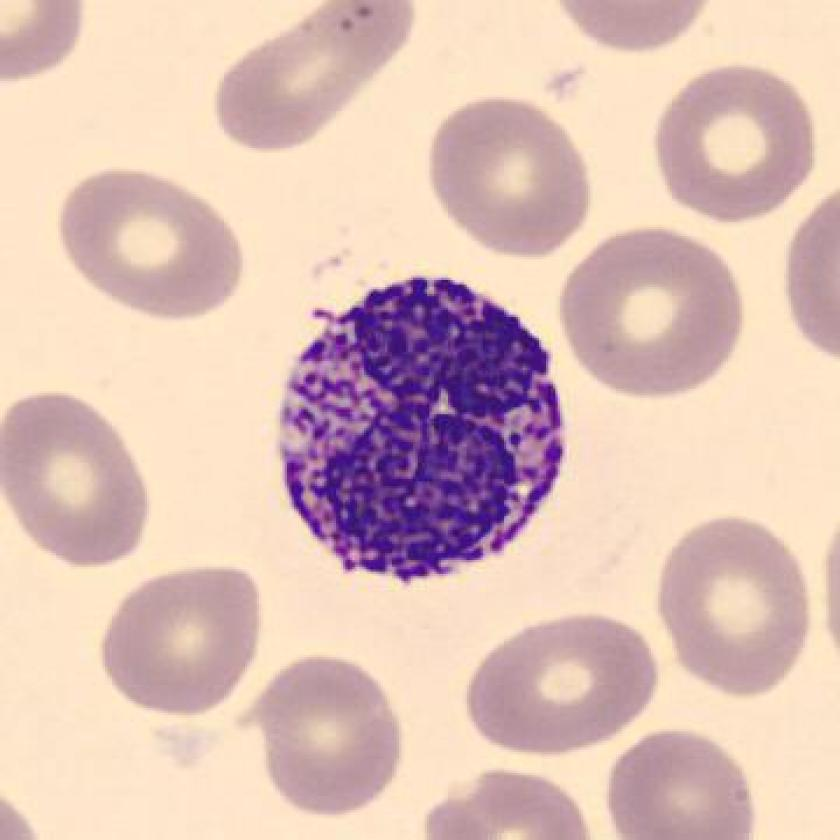basophil: (267, 263, 573, 594)
